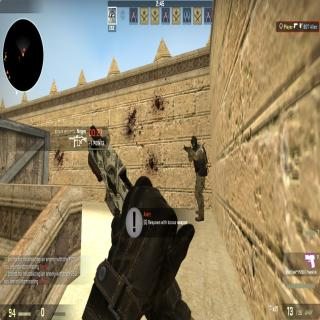CT-Body: (188, 132, 208, 220)
CT-Head: (189, 134, 198, 152)
